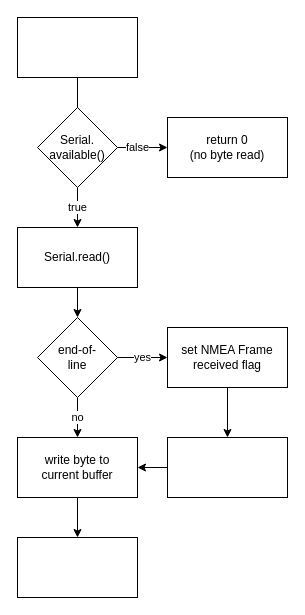
Some shapes in this 305 by 615 pixel diagram are drawn without their labels. Each missing label, with the centre of its shape:
"read()" belongs at pixel 77 47.
"return byte" belongs at pixel 77 567.
"swap read/write buffers" belongs at pixel 227 467.
